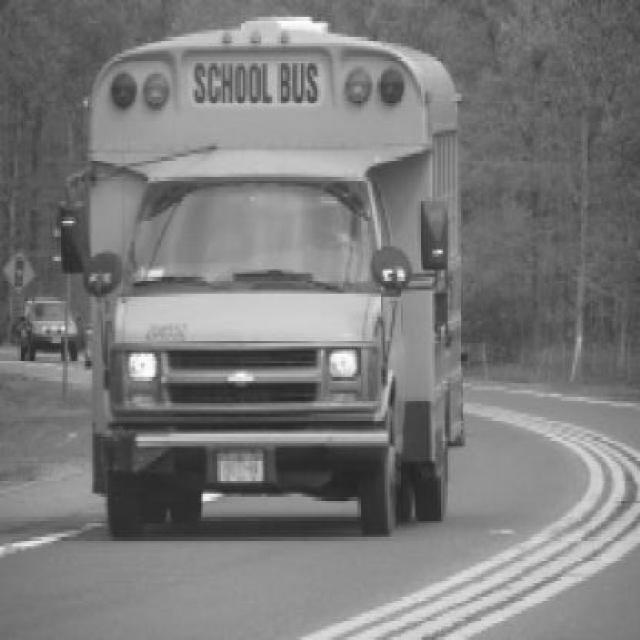Bus- Small: (56, 18, 466, 543)
